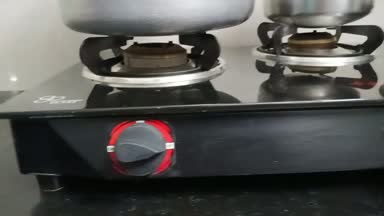flame_gas_off: (79, 33, 219, 177)
